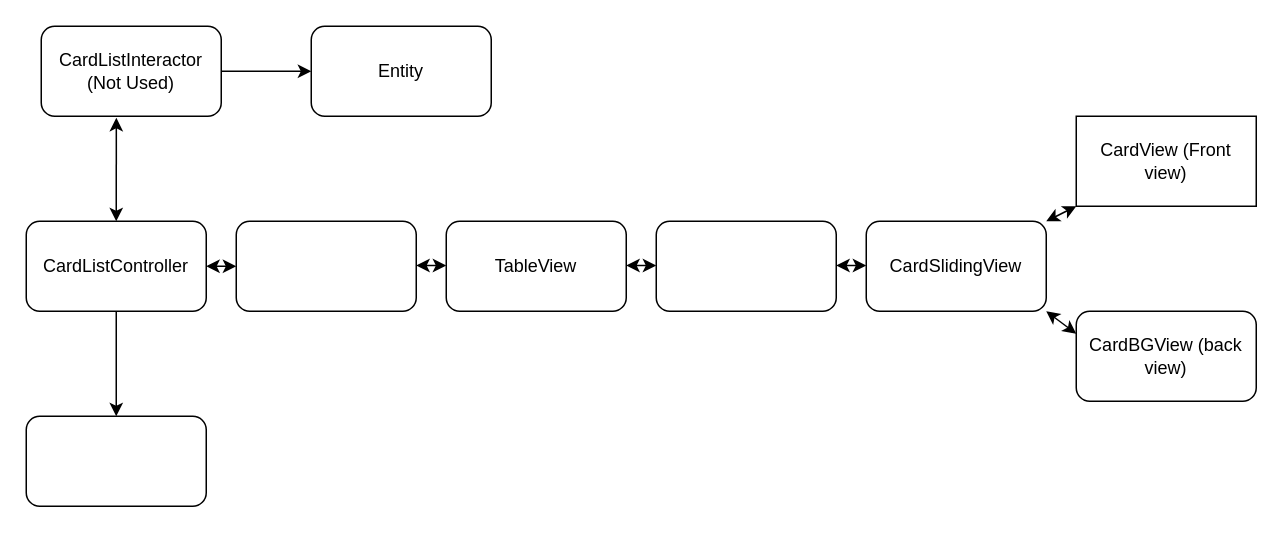
The diagram is 1283 pixels wide and 533 high, and some of its shapes have lost their labels. The centre of each missing label's shape, as x and y in pixels:
CardListRouter: (x=115, y=460)
CardListView: (x=325, y=265)
Cell 2: (x=745, y=265)
